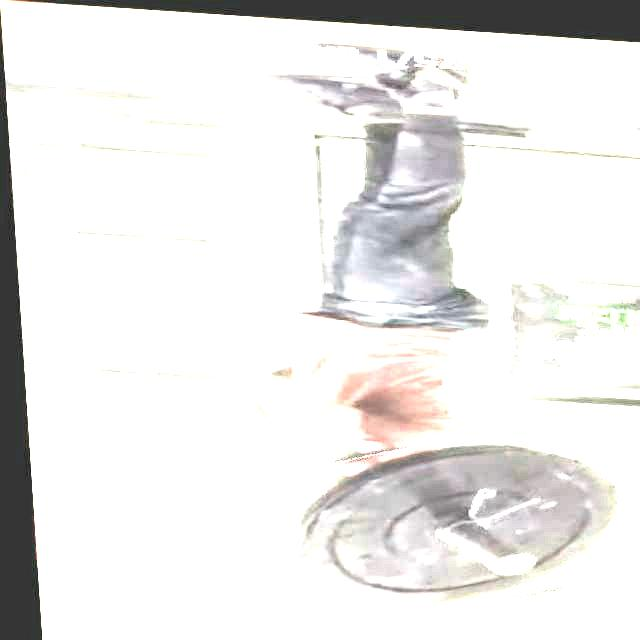barbell: (251, 405, 640, 632)
